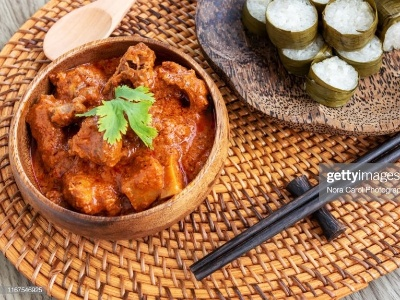rendang: (42, 72, 197, 198)
